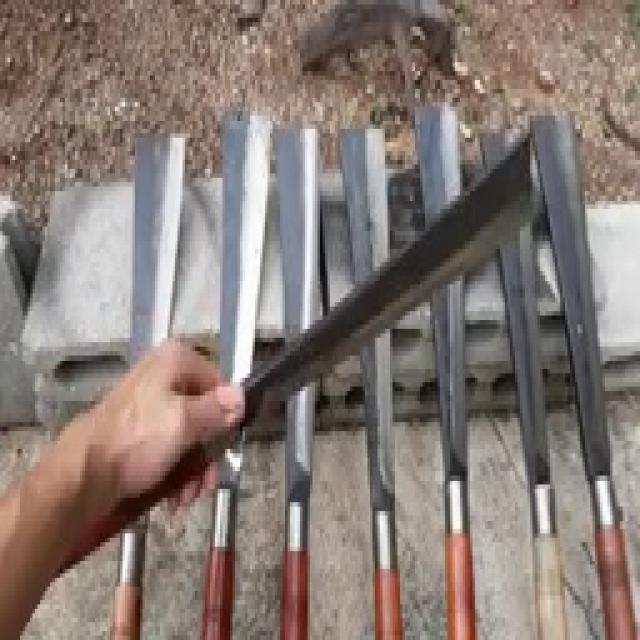eto: (38, 128, 538, 584)
